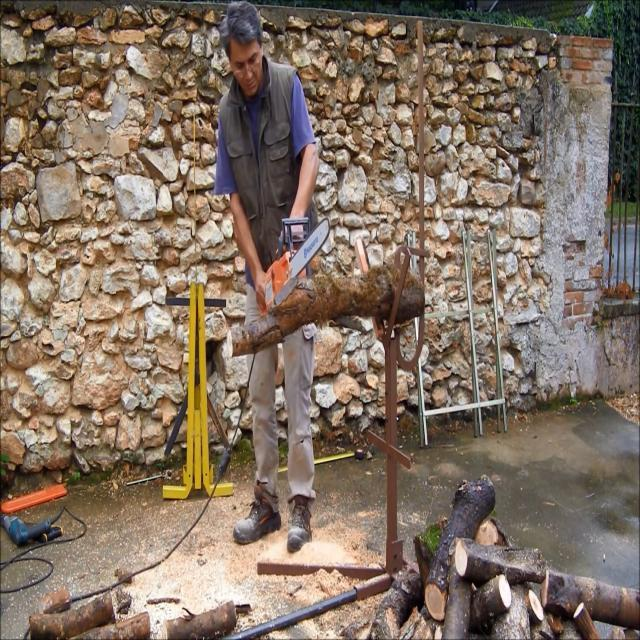Chainsaw: (242, 190, 346, 344)
